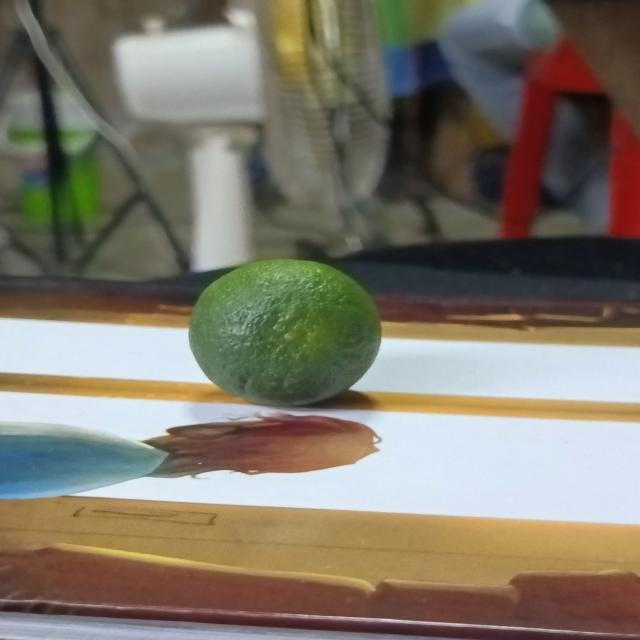heathy: (185, 250, 385, 402)
